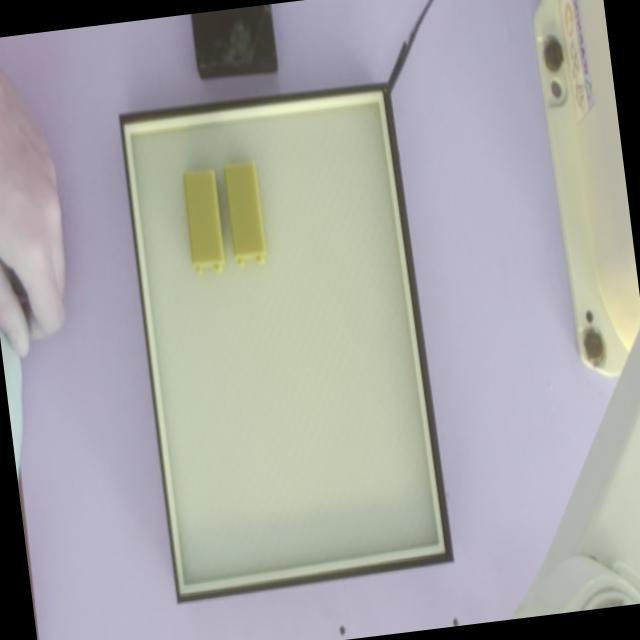bateria: (182, 169, 225, 272), (223, 162, 266, 265)
mesa: (118, 81, 455, 601)
